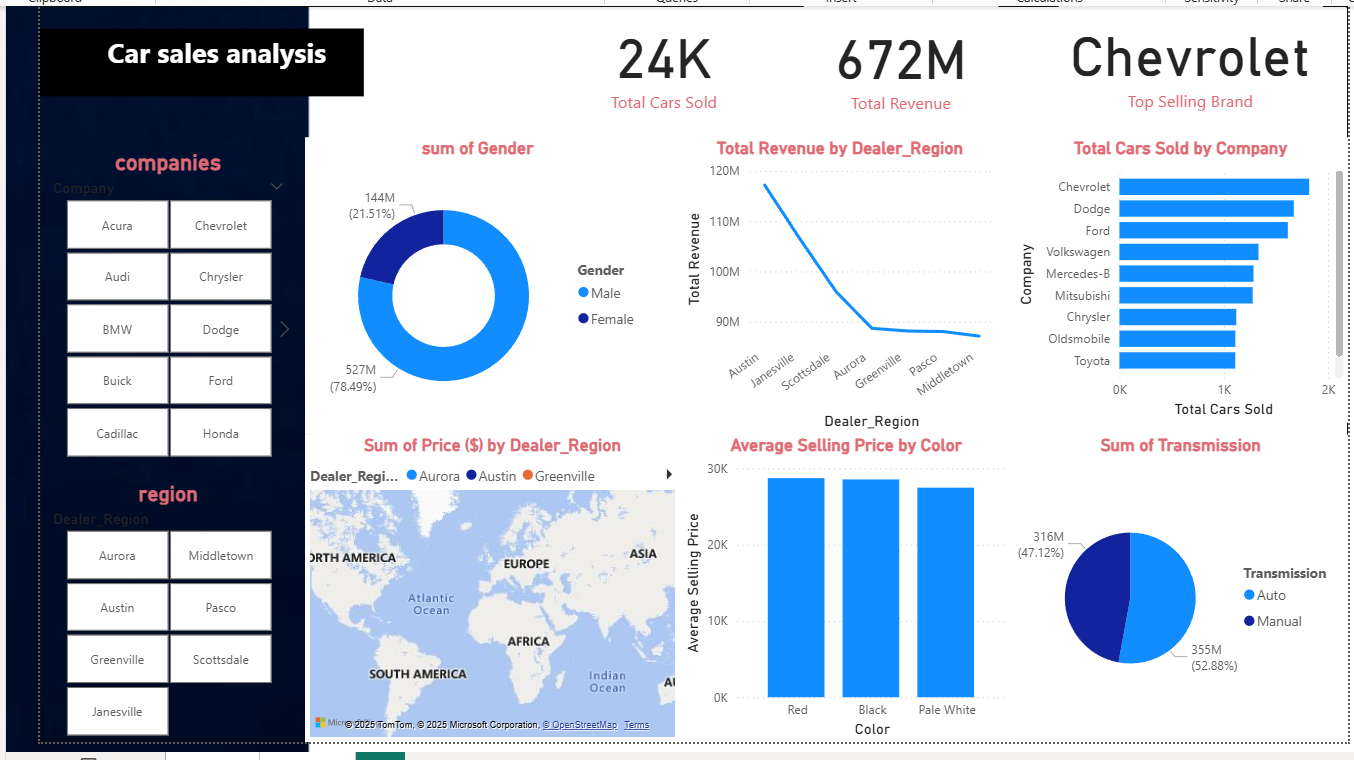

What the dashboard file says about the page in this screenshot:
{"tool":"powerbi","page":{"name":"Report 1","canvas":[1280,720],"ordinal":1},"visuals":[{"type":"card","fields":{"Values":["Car Sales xlsx - car_data.Top Selling Brand"]},"box":[996.6,0,258,107.6],"z":0},{"type":"card","fields":{"Values":["Car Sales xlsx - car_data.Total Cars Sold"]},"box":[544.2,1.2,133.3,107.6],"z":1000},{"type":"card","fields":{"Values":["Car Sales xlsx - car_data.Total Revenue"]},"box":[747.2,0,190.8,112.5],"z":2000},{"type":"map","fields":{"Series":["Car Sales xlsx - car_data.Dealer_Region"],"Size":["Sum(Car Sales xlsx - car_data.Price ($))"]},"box":[259.2,419.4,366.8,300.8],"z":3000},{"type":"pieChart","title":"Sum of Transmission","fields":{"Y":["Sum(Car Sales xlsx - car_data.Price ($))"],"Category":["Car Sales xlsx - car_data.Transmission"]},"box":[951.4,419.4,328.9,300.8],"z":4000},{"type":"donutChart","title":"sum of Gender","fields":{"Y":["Sum(Car Sales xlsx - car_data.Price ($))"],"Category":["Car Sales xlsx - car_data.Gender"]},"box":[259.2,128.4,337.5,291],"z":5000},{"type":"slicer","title":"region","fields":{"Values":["Car Sales xlsx - car_data.Dealer_Region"]},"box":[0,464.7,250.7,255.6],"z":6000},{"type":"columnChart","fields":{"Category":["Car Sales xlsx - car_data.Color"],"Y":["Car Sales xlsx - car_data.Average Selling Price"]},"box":[626.1,419.4,325.3,300.8],"z":7000},{"type":"barChart","fields":{"Category":["Car Sales xlsx - car_data.Company"],"Y":["Car Sales xlsx - car_data.Total Cars Sold"]},"box":[951.4,128.4,328.9,278.8],"z":8000},{"type":"lineChart","fields":{"Category":["Car Sales xlsx - car_data.Dealer_Region"],"Y":["Car Sales xlsx - car_data.Total Revenue"]},"box":[627.3,128.4,310.6,291],"z":9000},{"type":"slicer","title":"companies","fields":{"Values":["Car Sales xlsx - car_data.Company"]},"box":[0,140.6,250.7,306.9],"z":10000},{"type":"textbox","box":[0,22,316.7,66],"z":11001}]}

Visuals, with their boxes on the page's 1280x720 design canvas (x1, y1, x2, y2). These are canvas units, not pixel positions in the 1354x760 screenshot, which may show the page scaled, cropped or inside an application window:
card - Car Sales xlsx - car_data.Top Selling Brand: [x1=997, y1=0, x2=1255, y2=108]
card - Car Sales xlsx - car_data.Total Cars Sold: [x1=544, y1=1, x2=678, y2=109]
card - Car Sales xlsx - car_data.Total Revenue: [x1=747, y1=0, x2=938, y2=112]
map - Car Sales xlsx - car_data.Dealer_Region x Sum(Car Sales xlsx - car_data.Price ($)): [x1=259, y1=419, x2=626, y2=720]
"Sum of Transmission" pieChart: [x1=951, y1=419, x2=1280, y2=720]
"sum of Gender" donutChart: [x1=259, y1=128, x2=597, y2=419]
"region" slicer: [x1=0, y1=465, x2=251, y2=720]
columnChart - Car Sales xlsx - car_data.Color x Car Sales xlsx - car_data.Average Selling Price: [x1=626, y1=419, x2=951, y2=720]
barChart - Car Sales xlsx - car_data.Company x Car Sales xlsx - car_data.Total Cars Sold: [x1=951, y1=128, x2=1280, y2=407]
lineChart - Car Sales xlsx - car_data.Dealer_Region x Car Sales xlsx - car_data.Total Revenue: [x1=627, y1=128, x2=938, y2=419]
"companies" slicer: [x1=0, y1=141, x2=251, y2=448]
textbox: [x1=0, y1=22, x2=317, y2=88]
